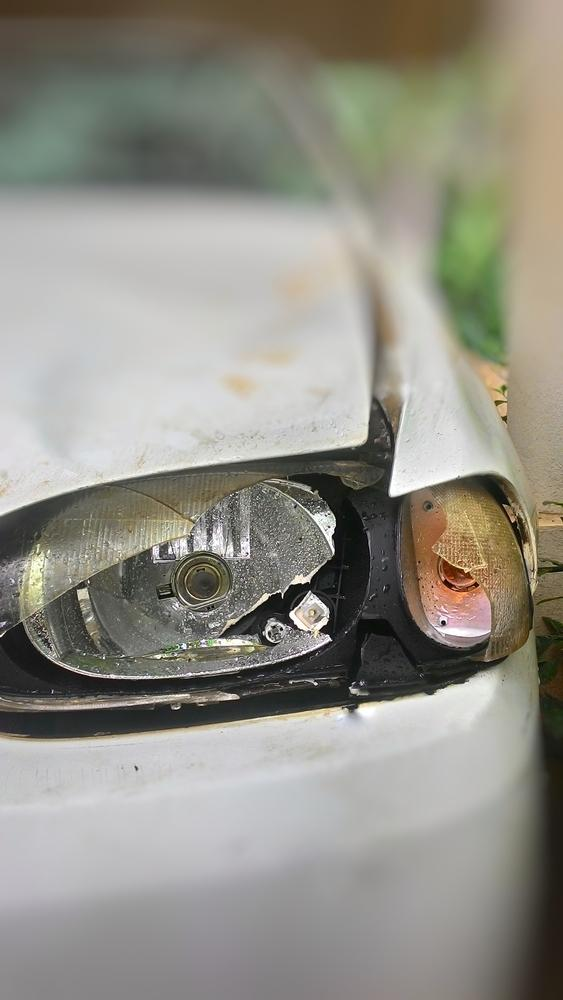lamp broken: (0, 457, 534, 706)
